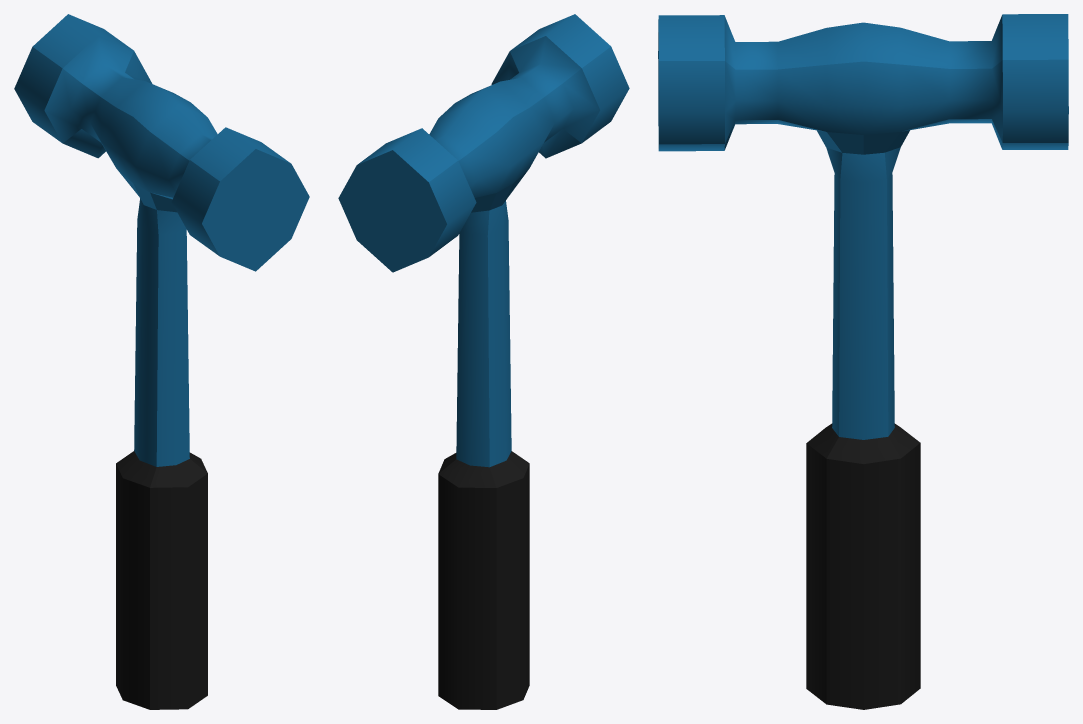
The model's file is hammer.obj.
3 renders of one model, left to right at view 1: azimuth 30°, elevation 25°; view 2: azimuth 150°, elevation 25°; view 3: azimuth 270°, elevation 25°, orthographic. The views are drawn at different scales.
Visible parts, largest first — view 1: pCube3; view 2: pCube3; view 3: pCube3.
Boxes of the visible parts, x1=… form: pCube3: x1=14, y1=14, x2=309, y2=709; pCube3: x1=338, y1=14, x2=629, y2=709; pCube3: x1=658, y1=14, x2=1068, y2=709.
Bounding box in the file's own units: 1.91 × 10 × 5.52.
